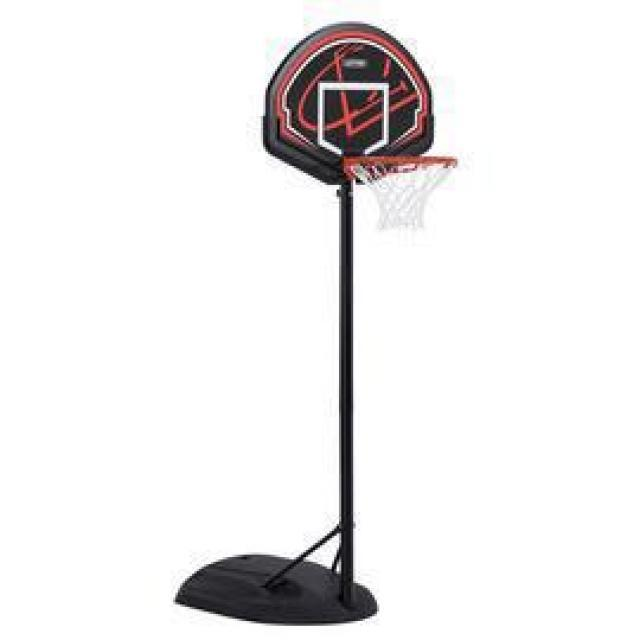hoop: (344, 157, 458, 230)
